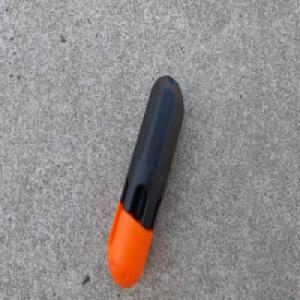PlasticPart: (106, 73, 185, 289)
